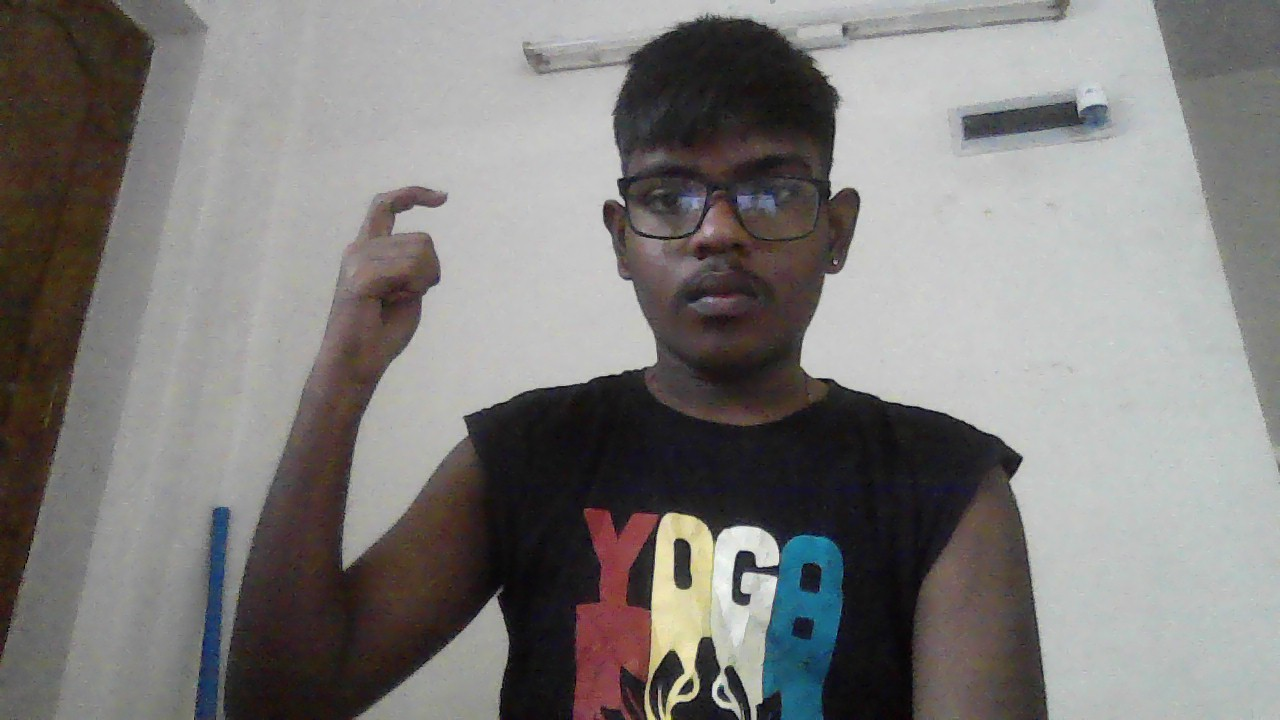X: (326, 185, 447, 383)
